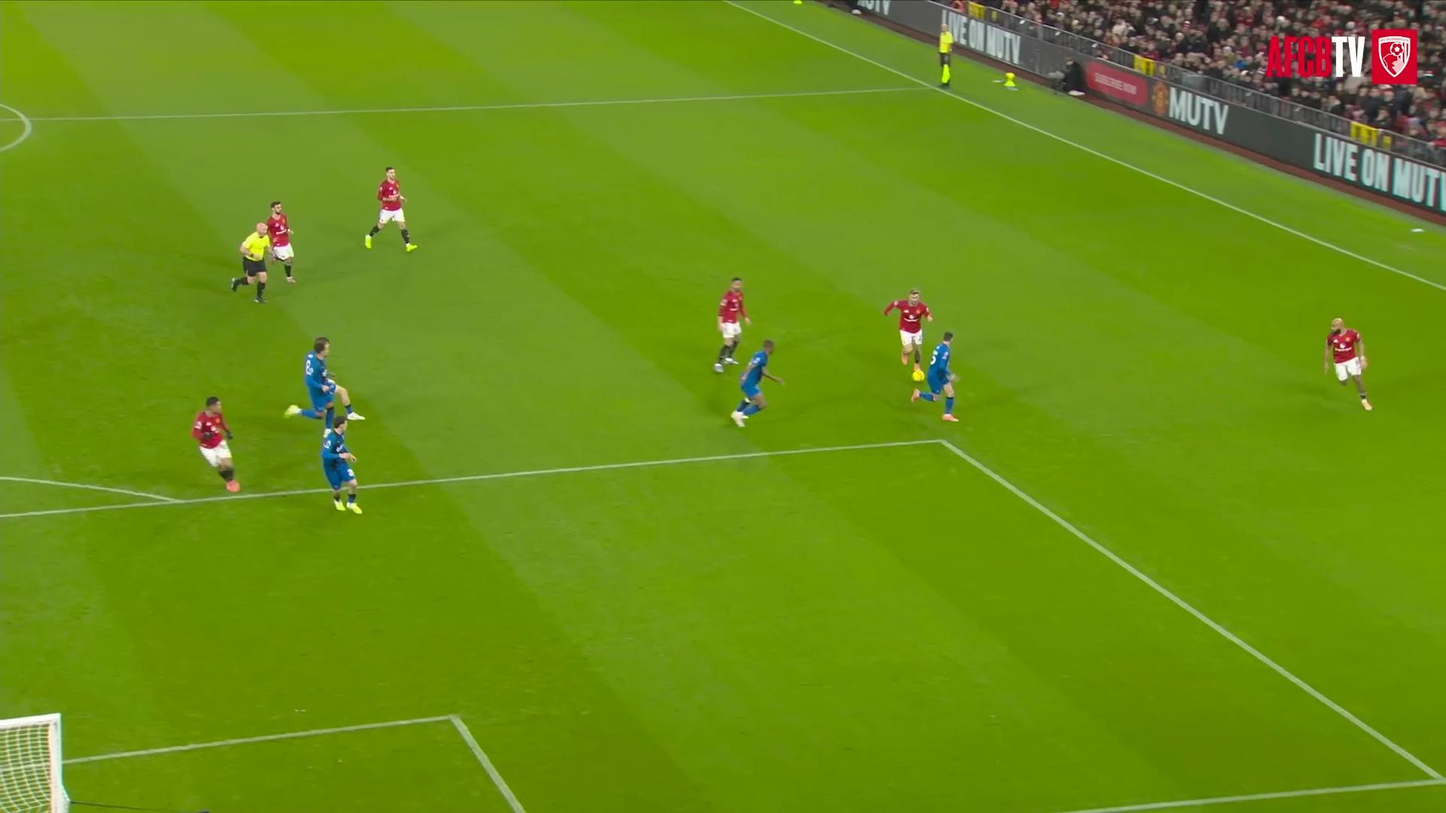football: (912, 370, 925, 381)
player: (285, 337, 365, 426), (730, 340, 783, 427), (191, 396, 239, 492), (1324, 318, 1371, 410), (365, 168, 416, 251), (911, 331, 956, 422), (883, 288, 932, 370), (321, 417, 362, 513), (714, 277, 750, 372), (266, 201, 295, 283)
referee: (231, 223, 270, 303), (938, 23, 953, 87)
